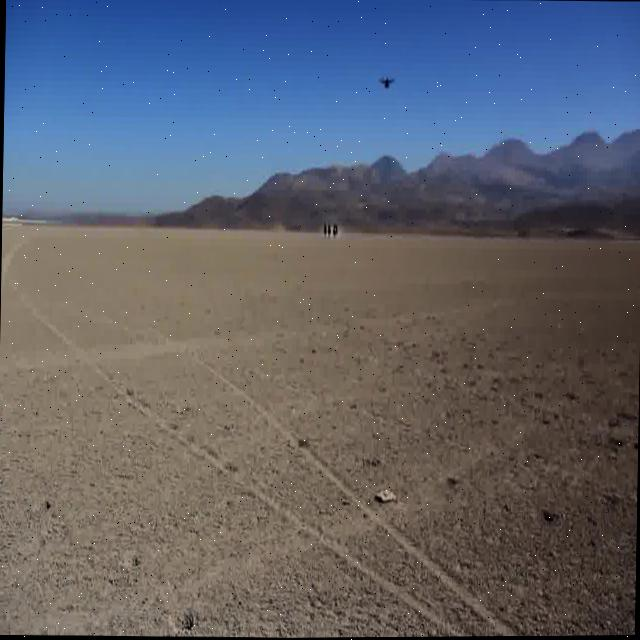drone: (377, 74, 395, 93)
